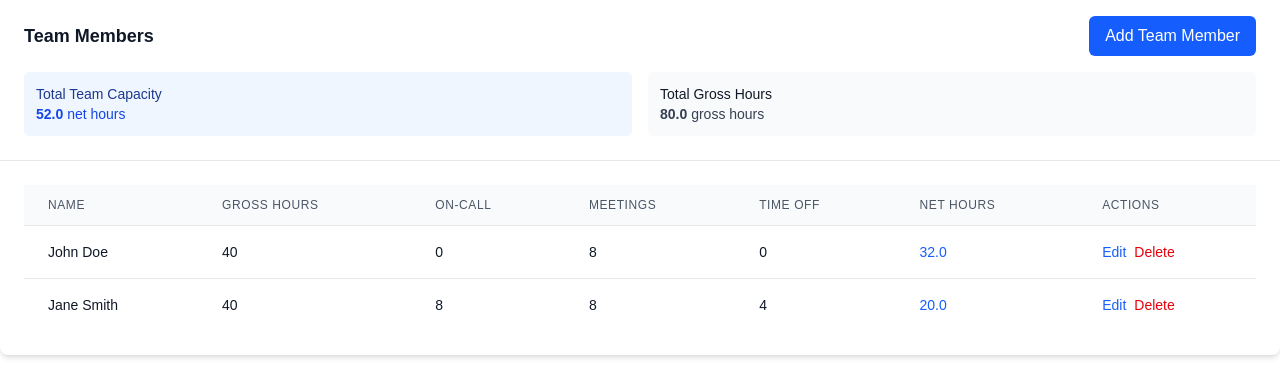
Scenario: TeamMemberList › should cancel delete when cancel button is clicked
This screenshot has width=1280, height=380.
Click the button "Delete" in the row of "John Doe": (1155,252) [1134, 242, 1175, 262]
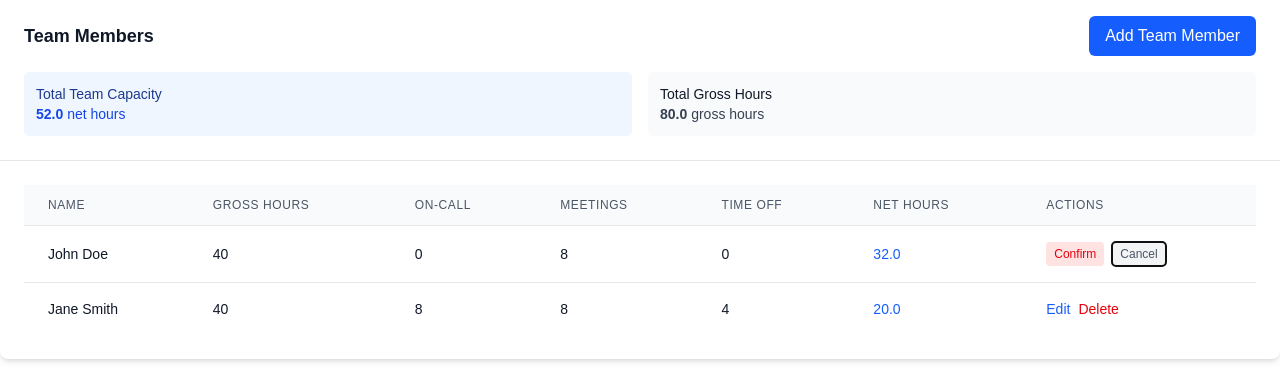
Click the button "Cancel": (1139,254) [1112, 242, 1166, 266]
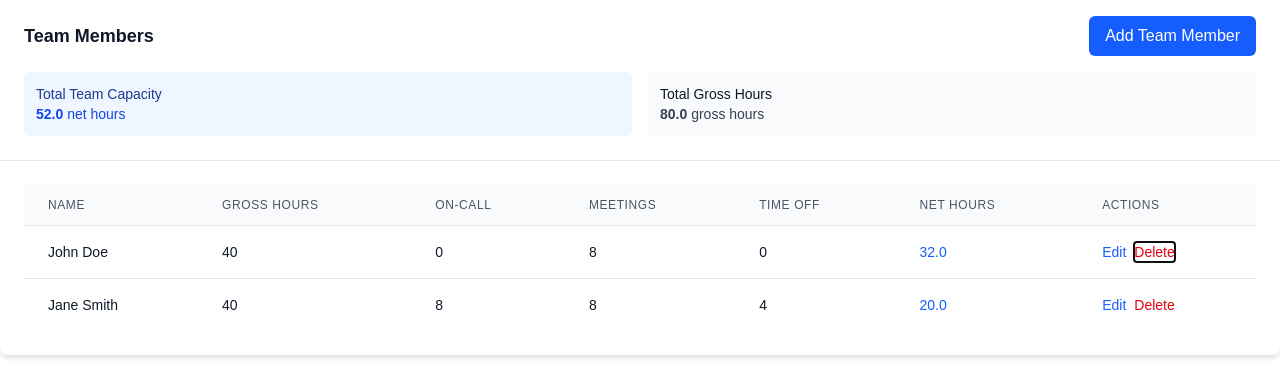
Check: the button "Confirm" is gone
